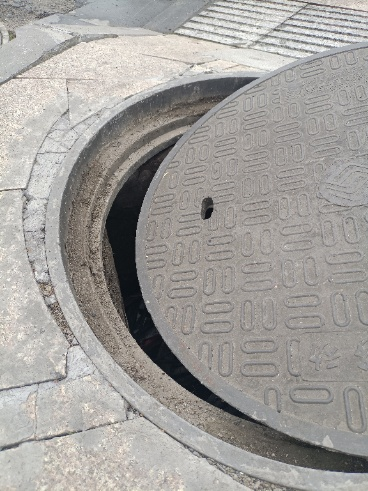uncovered: (45, 41, 367, 488)
